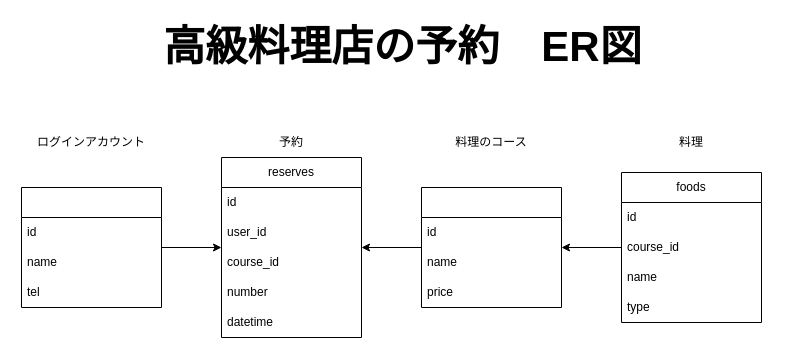
Image size: 804x355. Some labels were removed from this diagram. Here are the shapes that lost their labels. From the top down, the box of each, then its label:
(20, 186, 162, 308): users
(420, 186, 562, 308): courses
